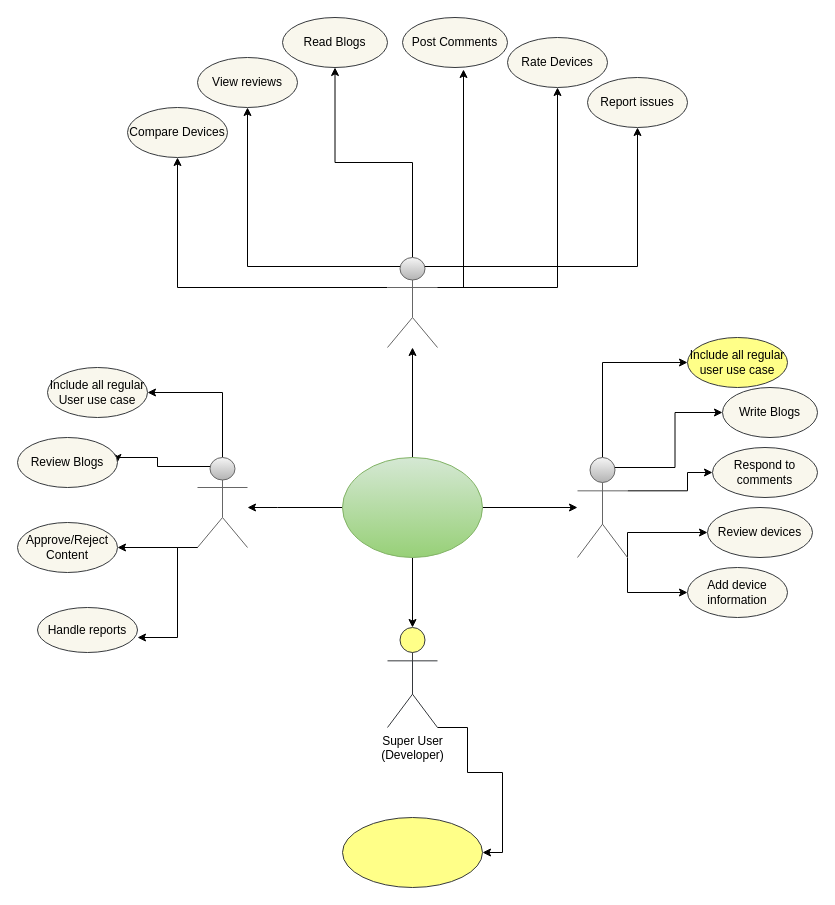
Some shapes in this 835 by 905 pixel diagram are drawn without their labels. Each missing label, with the centre of its shape:
Admin: (x=602, y=507)
Full Access to all use cases: (x=412, y=852)
Guest (Reviewer): (x=222, y=502)
Regular User: (x=412, y=302)
Writrating: (x=412, y=507)
